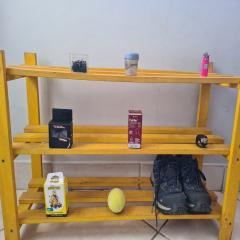bola: (107, 188, 126, 213)
bota2: (151, 152, 213, 215)
cx-bike: (48, 107, 73, 149)
cx-ferro: (128, 109, 142, 149)
cx-minions: (42, 172, 70, 218)
cx-xuxa: (69, 52, 89, 74)
isqueiro: (200, 52, 210, 78)
luz: (196, 134, 208, 149)
pote: (124, 52, 140, 77)
